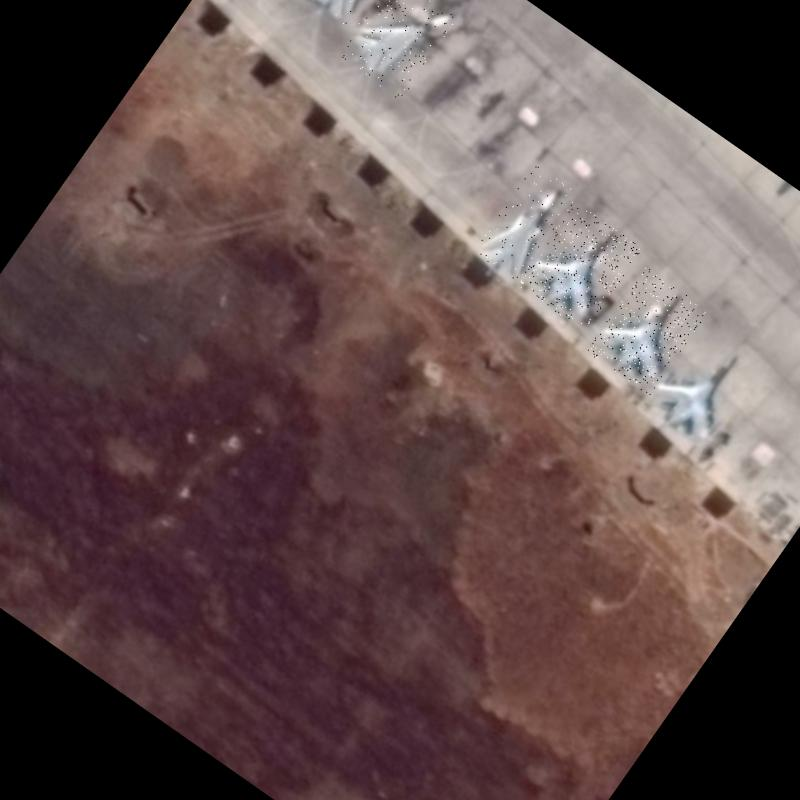A1: (638, 321, 764, 453), (516, 201, 642, 332), (585, 266, 709, 396)
A20: (471, 163, 579, 285), (335, 0, 459, 101), (299, 0, 409, 26)
